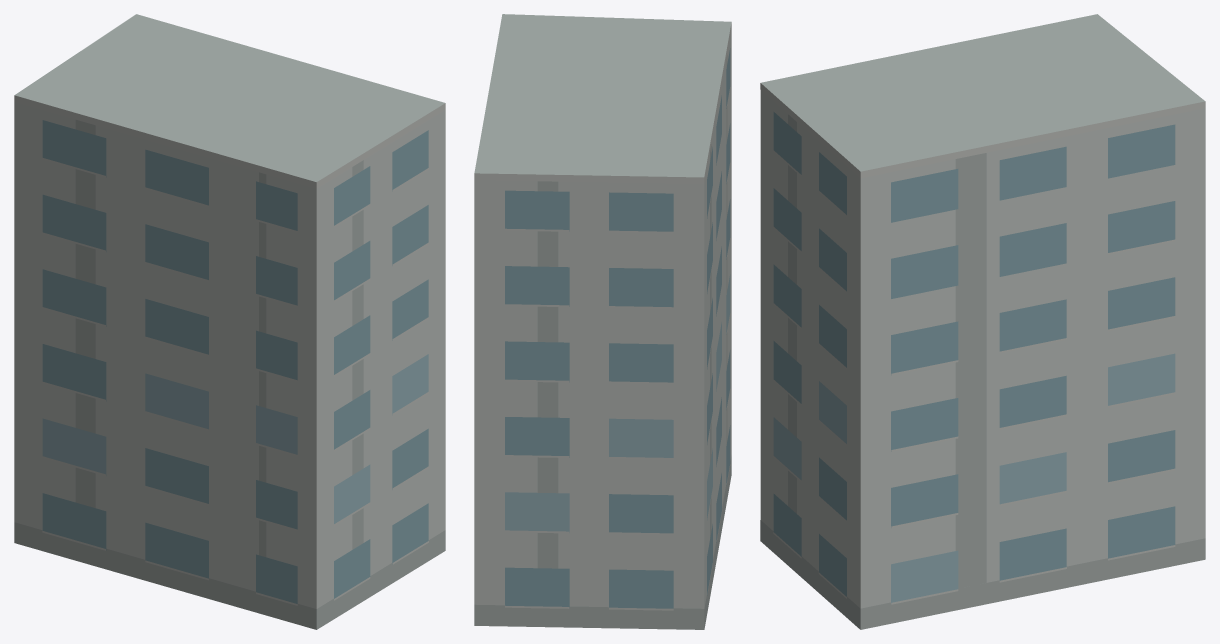
File: survey-upis-32700352.glb
The picture shows the model from 3 angles, left to right: view 1: azimuth 30°, elevation 25°; view 2: azimuth 150°, elevation 25°; view 3: azimuth 270°, elevation 25°; orthographic projection. The views are drawn at different scales.
Visible parts, largest first — view 1: survey-upis-32700352.tmp; view 2: survey-upis-32700352.tmp; view 3: survey-upis-32700352.tmp.
Part boxes in pixels (box(x1,y1,x2,y2)): survey-upis-32700352.tmp: box(14, 14, 445, 629); survey-upis-32700352.tmp: box(474, 14, 731, 629); survey-upis-32700352.tmp: box(760, 14, 1205, 629).
Bounding box in the file's own units: 12.07 × 16.35 × 14.4.
